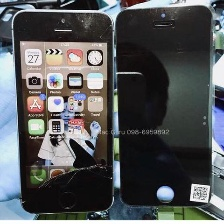phone: (7, 6, 117, 216), (111, 2, 219, 211)
